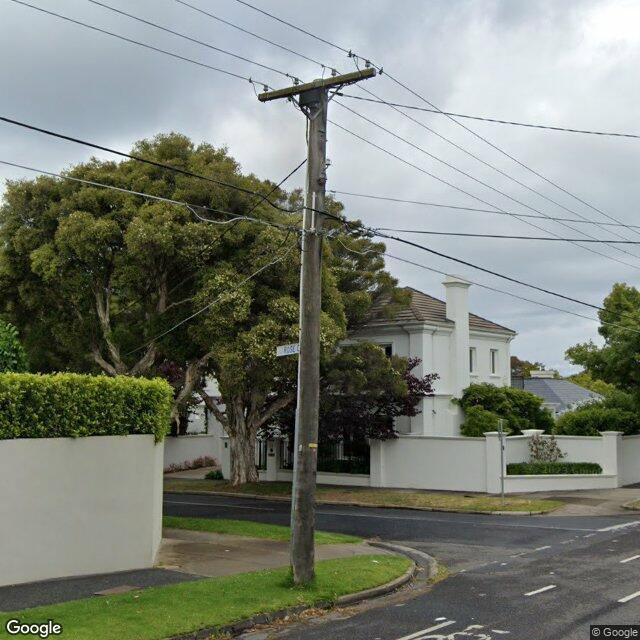crossarm: (248, 49, 384, 104)
timber-pole: (287, 78, 329, 588)
